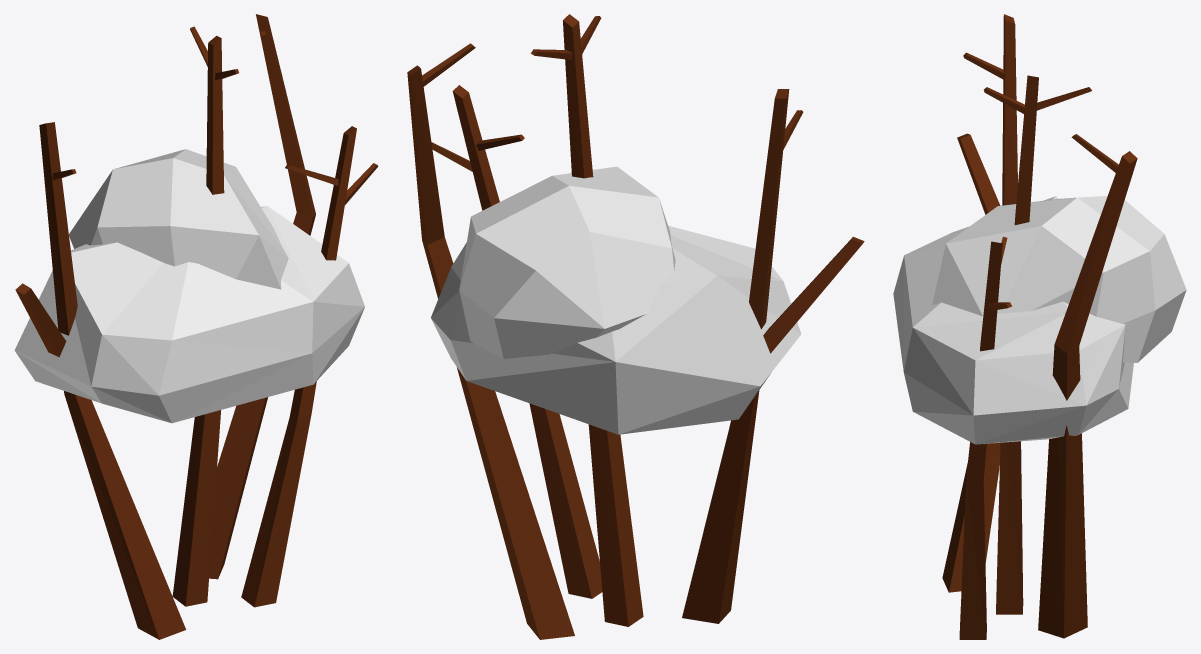
The model's file is Bush_winter_018.fbx.
The picture shows the model from 3 angles, left to right: view 1: azimuth 30°, elevation 25°; view 2: azimuth 150°, elevation 25°; view 3: azimuth 270°, elevation 25°; orthographic projection. The views are drawn at different scales.
Visible parts, largest first — view 1: Bush_winter_018; view 2: Bush_winter_018; view 3: Bush_winter_018.
Boxes of the visible parts, box(x1,y1,x2,y2) form: Bush_winter_018: box(14, 14, 378, 639); Bush_winter_018: box(407, 14, 864, 639); Bush_winter_018: box(893, 14, 1186, 639).
Size of the model in its own units: 148 by 201 by 96.59.
